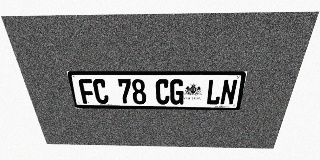7: (117, 79, 133, 104)
8: (131, 79, 146, 104)
C: (92, 79, 109, 104), (155, 79, 170, 104)
F: (78, 79, 96, 104)
G: (170, 79, 184, 105)
L: (205, 79, 223, 105)
N: (220, 79, 238, 105)
